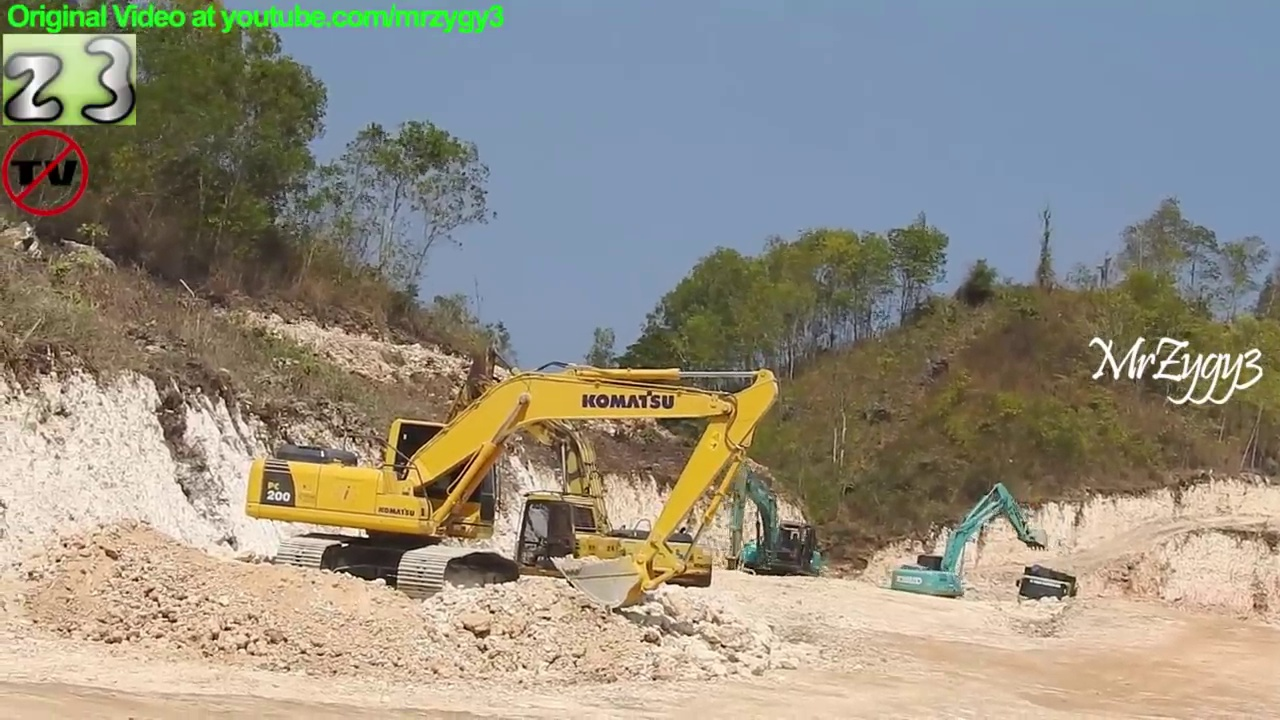excavator: (241, 358, 784, 619), (413, 343, 720, 612), (885, 478, 1053, 617), (715, 445, 827, 590)
truck: (1010, 561, 1084, 630)
